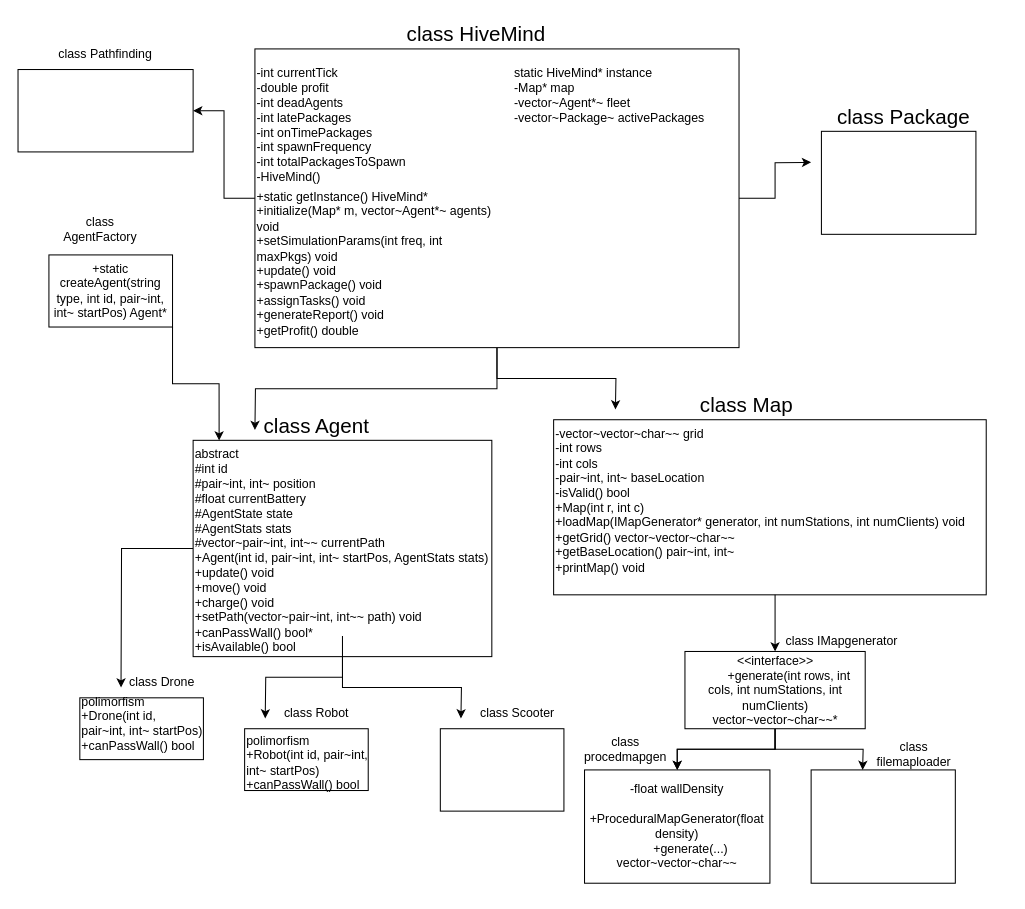
This 1025x909 diagram has some shape labels left out. The centre of each missing label's shape, as x and y in pixels:
+int id +pair~int, int~ destination +int reward +bool assigned +bool delivered: pixel 898 182
+static getPath(grid, start, end, canPassWalls) vector~pair~int, int~~: pixel 105 110
-string filename +FileMapLoader(string file) +generate(...) vector~vector~char~~: pixel 882 826
polimorfism +Scooter(int id, pair~int, int~ startPos) +canPassWall() bool: pixel 501 769
